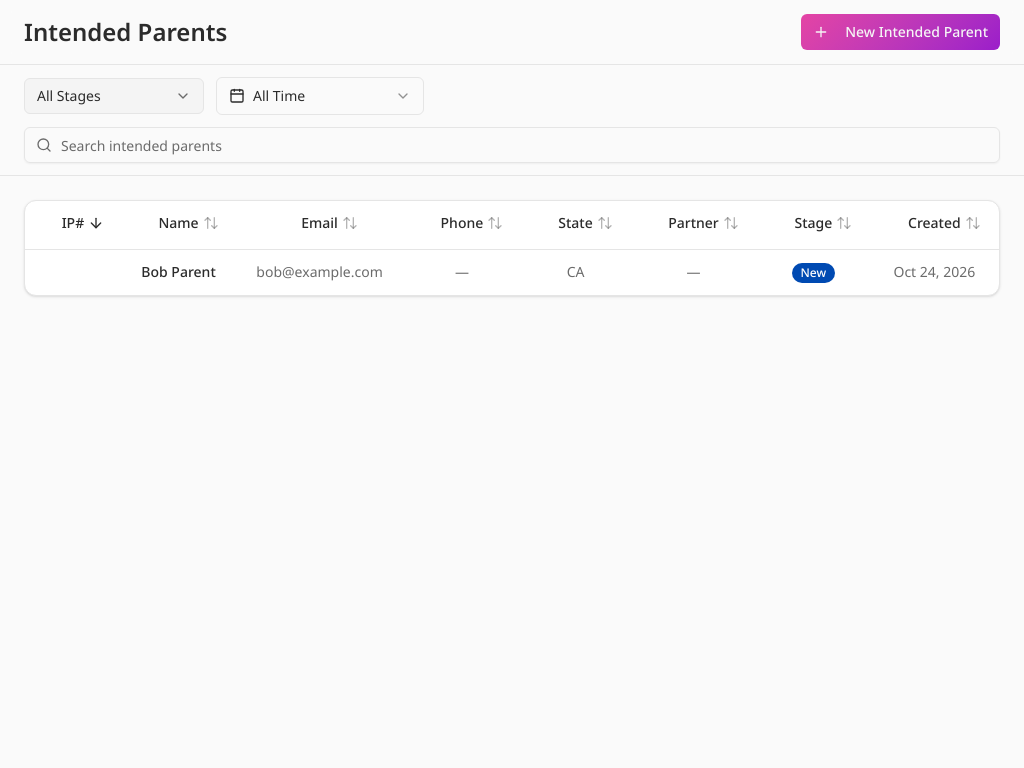
it: IntendedParentsPage › maps a 422 email error to the field instead of a raw toast
This screenshot has width=1024, height=768.
Click the button "New Intended Parent" at x=901, y=32, box [801, 14, 1000, 50]
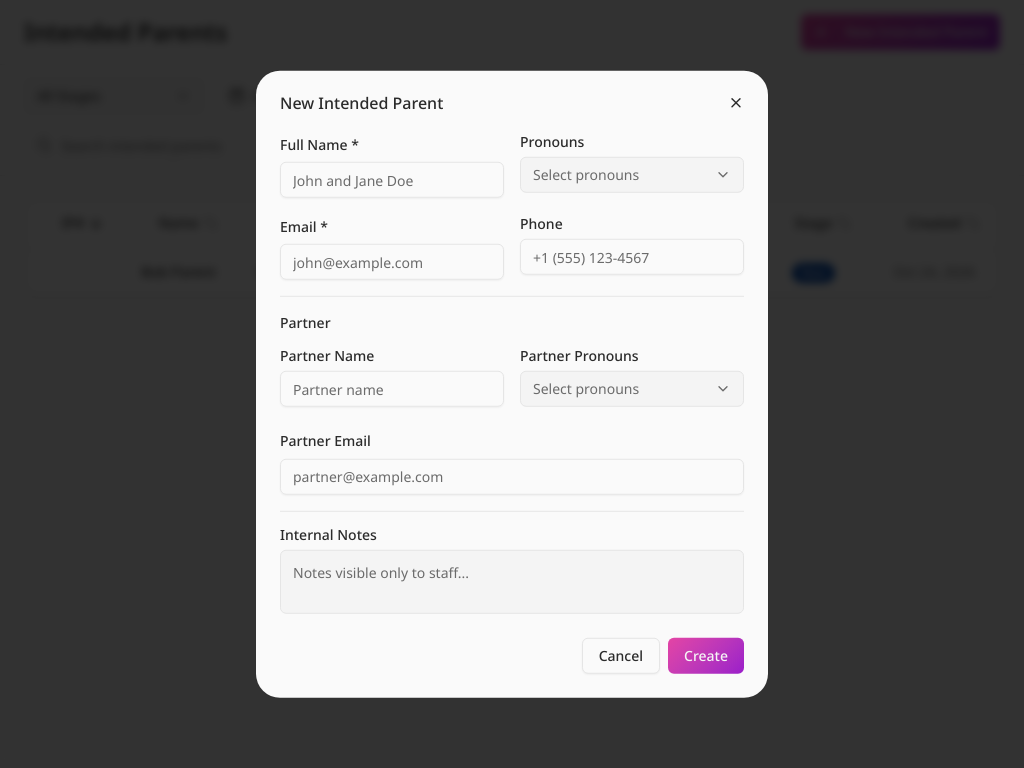
Type "Jordan Smith" into the field labelled "Full Name *" at x=392, y=180, box [280, 162, 504, 198]
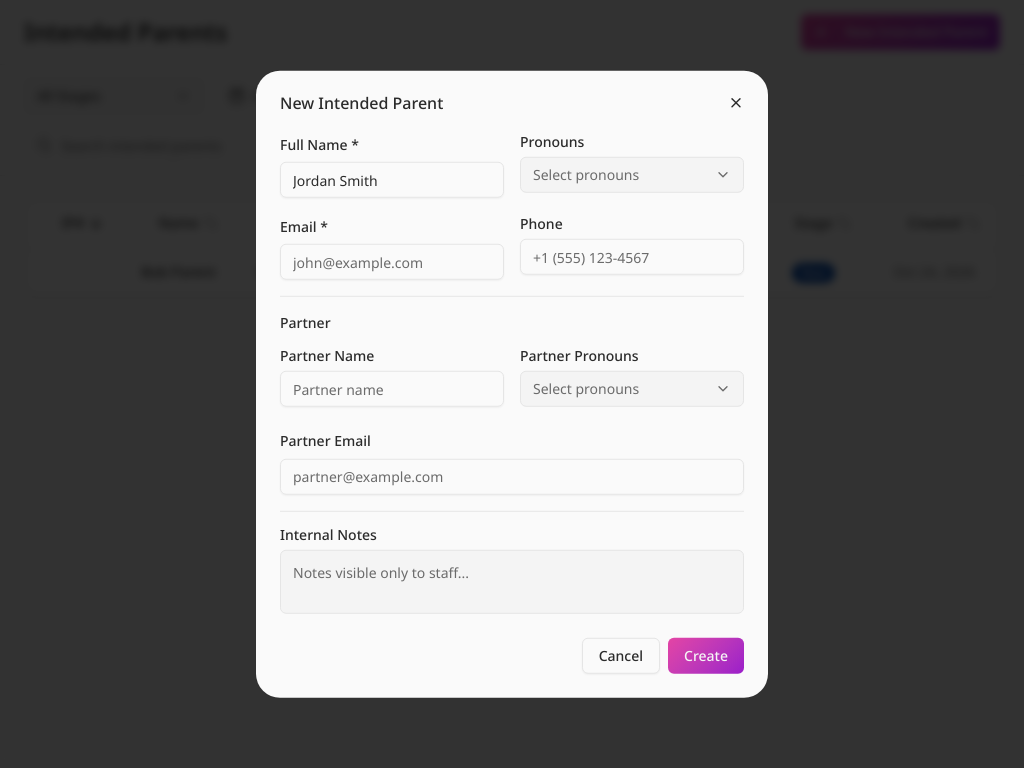
Type "jordan@example.test" into the field labelled "Email *" at x=392, y=262, box [280, 244, 504, 280]
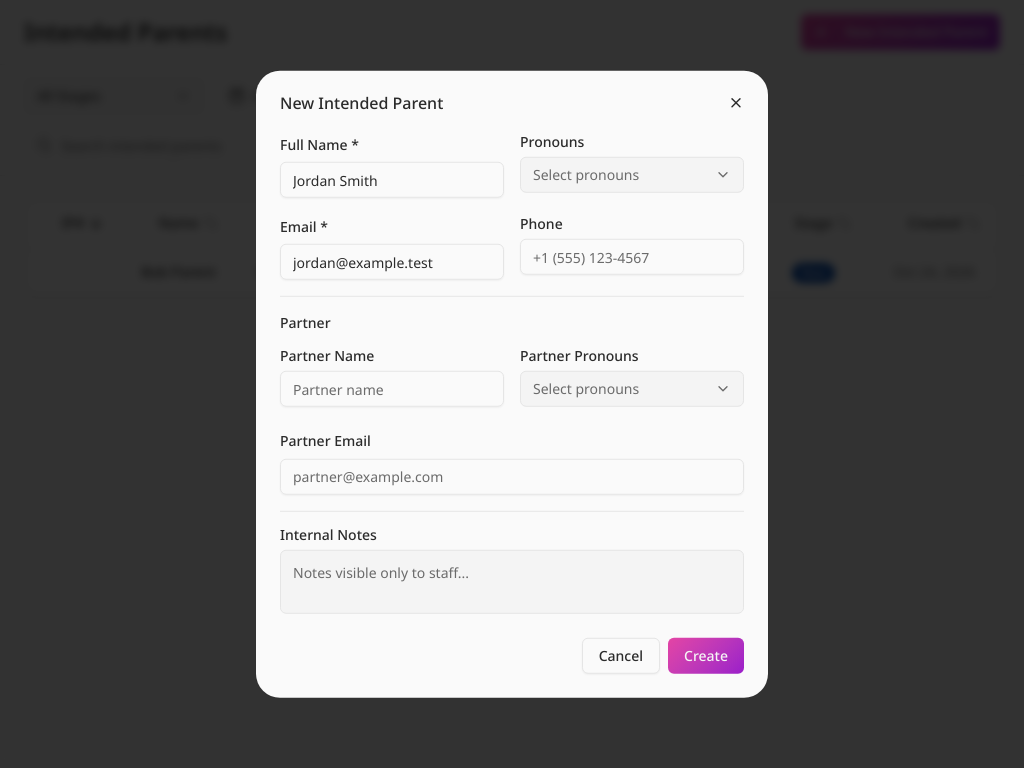
Click the button "Create" at x=706, y=655, box [668, 637, 744, 673]
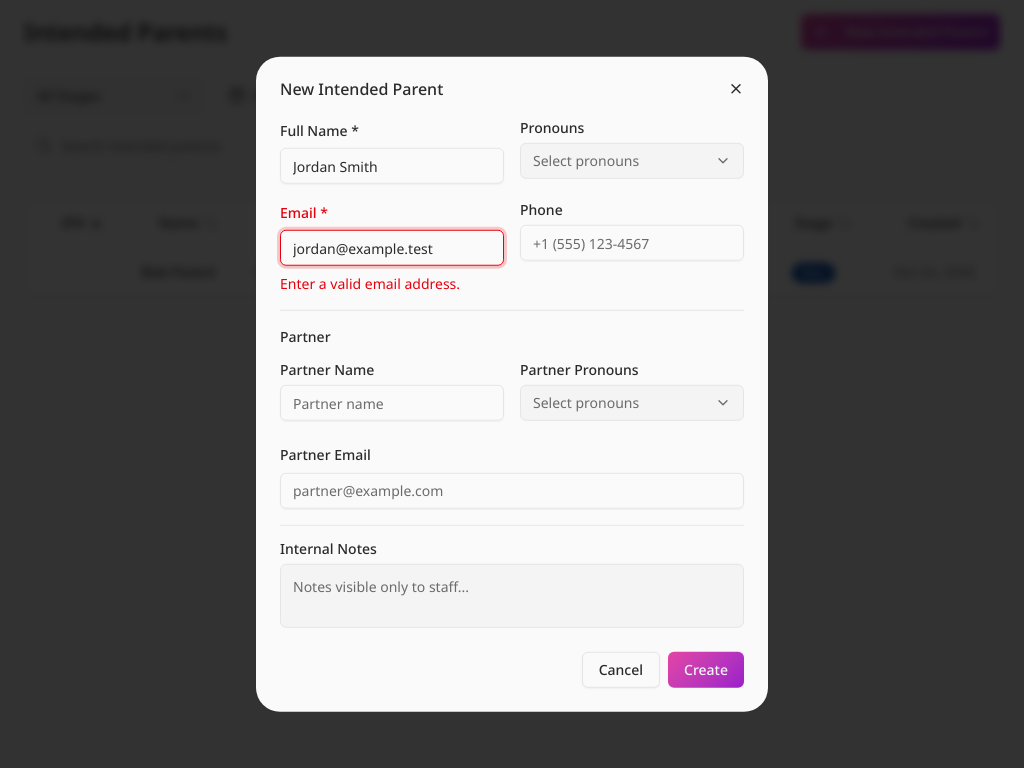
Check: the text "Enter a valid email address." is shown, box [280, 274, 460, 293]
